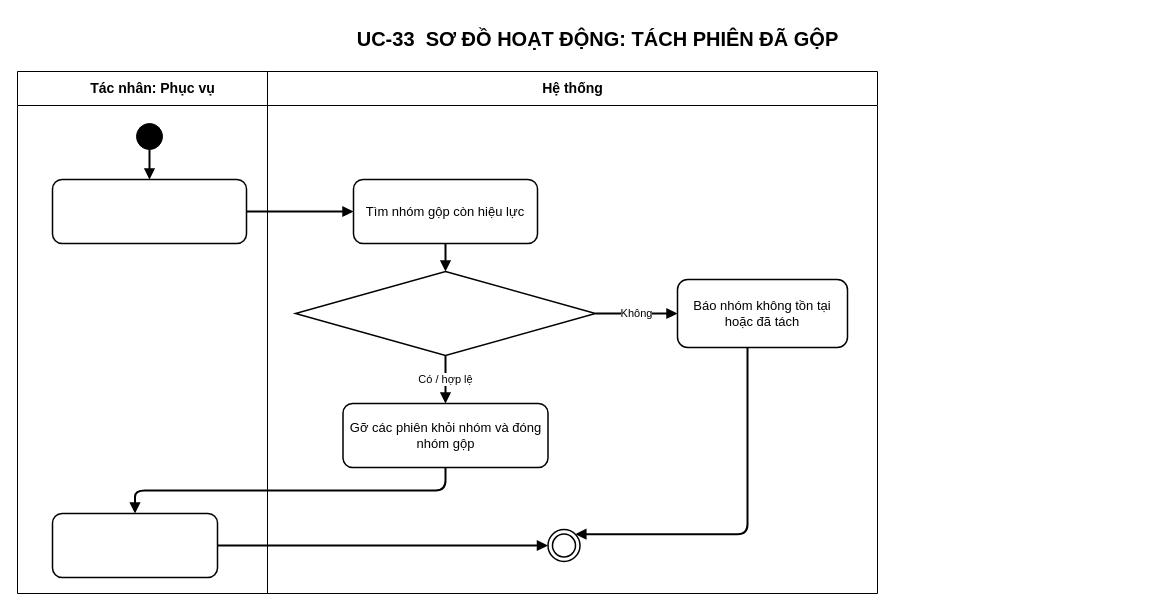
This 1165x611 diagram has some shape labels left out. Here are the shapes that lost their labels. From the top down, the box of each, then its label:
(51, 178, 247, 244): Chọn nhóm bàn đang gộp và yêu cầu tách
(294, 270, 596, 356): Nhóm tồn tại và còn phiên thành viên?
(51, 512, 218, 578): Nhận danh sách phiên độc lập sau khi tách
